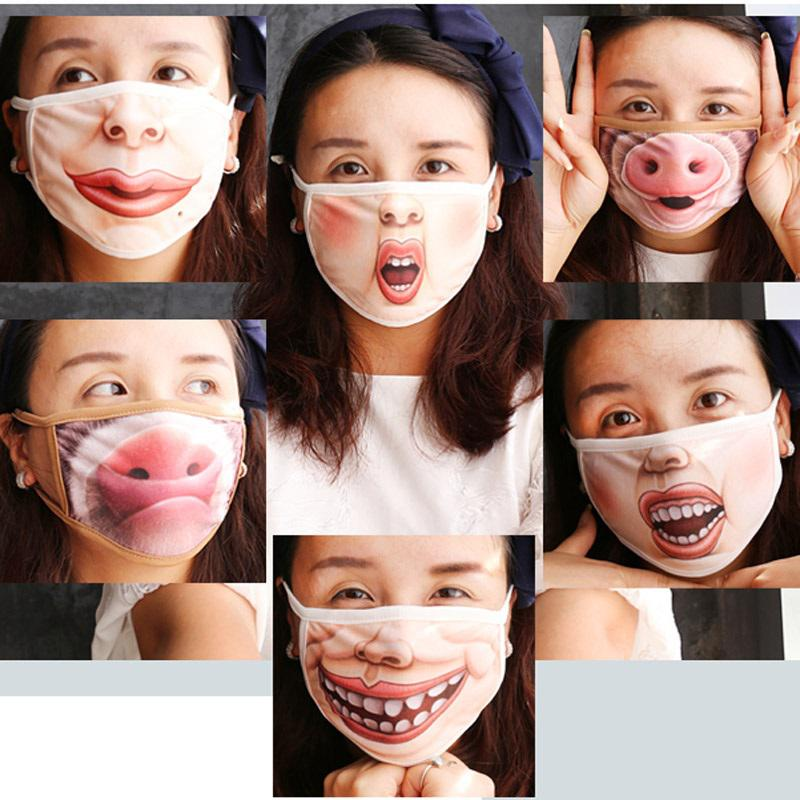OK: (23, 32, 244, 253), (575, 358, 791, 574), (38, 346, 248, 556), (296, 550, 505, 759), (298, 124, 502, 328), (581, 67, 750, 236)
